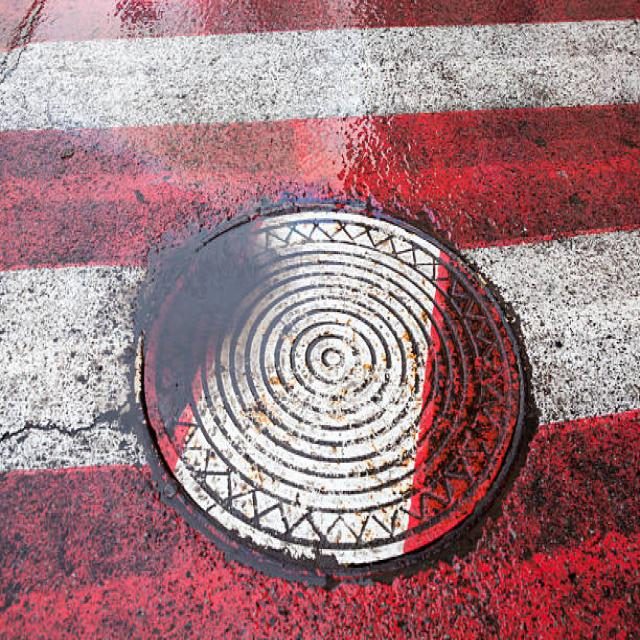Good: (129, 188, 542, 587)
